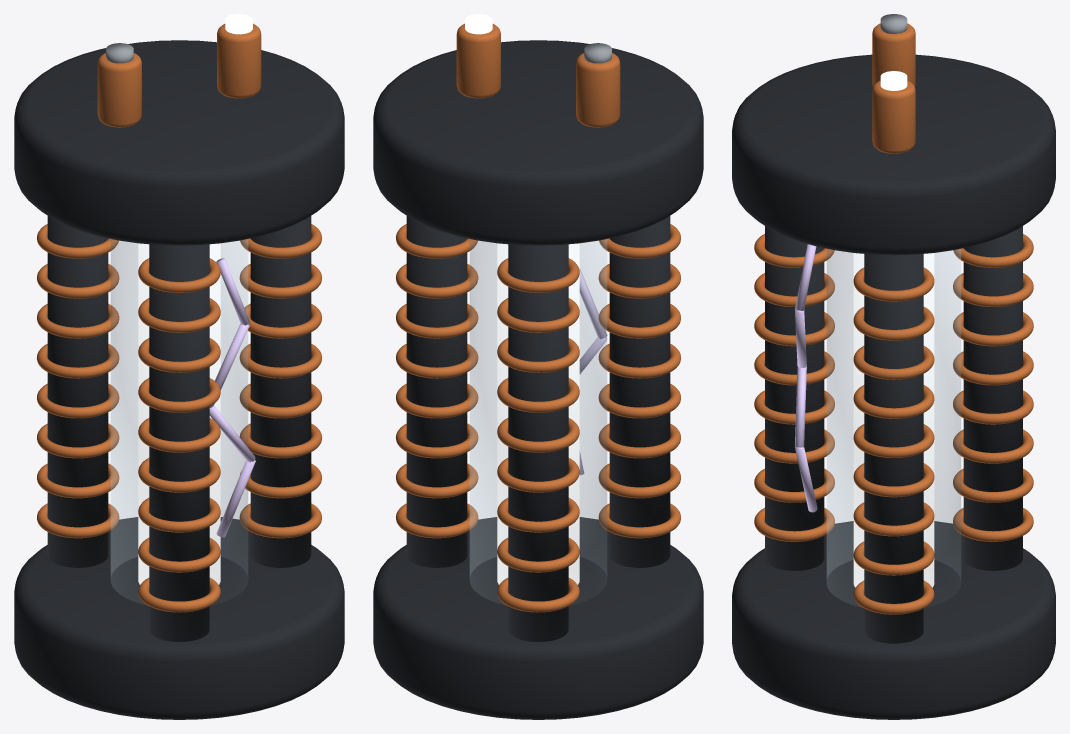
File: surge.fbx
3 views of the same model, side by side, from view 1: azimuth 30°, elevation 25°; view 2: azimuth 150°, elevation 25°; view 3: azimuth 270°, elevation 25° (orthographic). The views are drawn at different scales.
Visible parts, largest first — view 1: Cylinder.023, Cylinder.017, Cylinder.025, Cylinder.028, Cylinder.027, Cylinder.026, Cylinder.024, Cylinder.029, Cylinder.031, Torus.029, Torus.028, Torus.027 (+26 smaller); view 2: Cylinder.023, Cylinder.017, Cylinder.025, Cylinder.027, Cylinder.028, Cylinder.026, Cylinder.024, Cylinder.029, Cylinder.031, Torus.020, Torus.019, Torus.018 (+23 smaller); view 3: Cylinder.023, Cylinder.017, Cylinder.025, Cylinder.026, Cylinder.027, Cylinder.028, Cylinder.024, Cylinder.031, Cylinder.029, Torus.010, Torus.017, Torus.009 (+26 smaller).
Part boxes in pixels (x1,y1,x2,y2): Cylinder.023: [14, 40, 344, 245]; Cylinder.017: [14, 517, 344, 719]; Cylinder.025: [111, 239, 247, 604]; Cylinder.028: [149, 244, 209, 641]; Cylinder.027: [47, 216, 108, 567]; Cylinder.026: [250, 216, 311, 567]; Cylinder.024: [138, 243, 220, 584]; Cylinder.029: [97, 53, 141, 127]; Cylinder.031: [217, 23, 261, 98]; Torus.029: [138, 498, 220, 532]; Torus.028: [138, 538, 220, 572]; Torus.027: [138, 578, 220, 612]; Cylinder.023: [373, 40, 703, 245]; Cylinder.017: [373, 517, 703, 719]; Cylinder.025: [470, 239, 606, 604]; Cylinder.027: [508, 244, 568, 641]; Cylinder.028: [609, 216, 670, 567]; Cylinder.026: [406, 216, 467, 567]; Cylinder.024: [497, 243, 579, 584]; Cylinder.029: [576, 53, 620, 127]; Cylinder.031: [456, 23, 500, 98]; Torus.020: [497, 498, 579, 532]; Torus.019: [497, 538, 579, 572]; Torus.018: [497, 578, 579, 612]; Cylinder.023: [732, 54, 1055, 255]; Cylinder.017: [732, 521, 1055, 719]; Cylinder.025: [827, 249, 960, 606]; Cylinder.026: [864, 254, 923, 643]; Cylinder.027: [963, 226, 1022, 570]; Cylinder.028: [765, 226, 824, 570]; Cylinder.024: [853, 253, 934, 587]; Cylinder.031: [872, 80, 915, 153]; Cylinder.029: [872, 23, 915, 86]; Torus.010: [853, 541, 934, 575]; Torus.017: [853, 267, 934, 301]; Torus.009: [853, 580, 934, 614].
Size of the model in its own units: 24 by 49.7 by 24.
